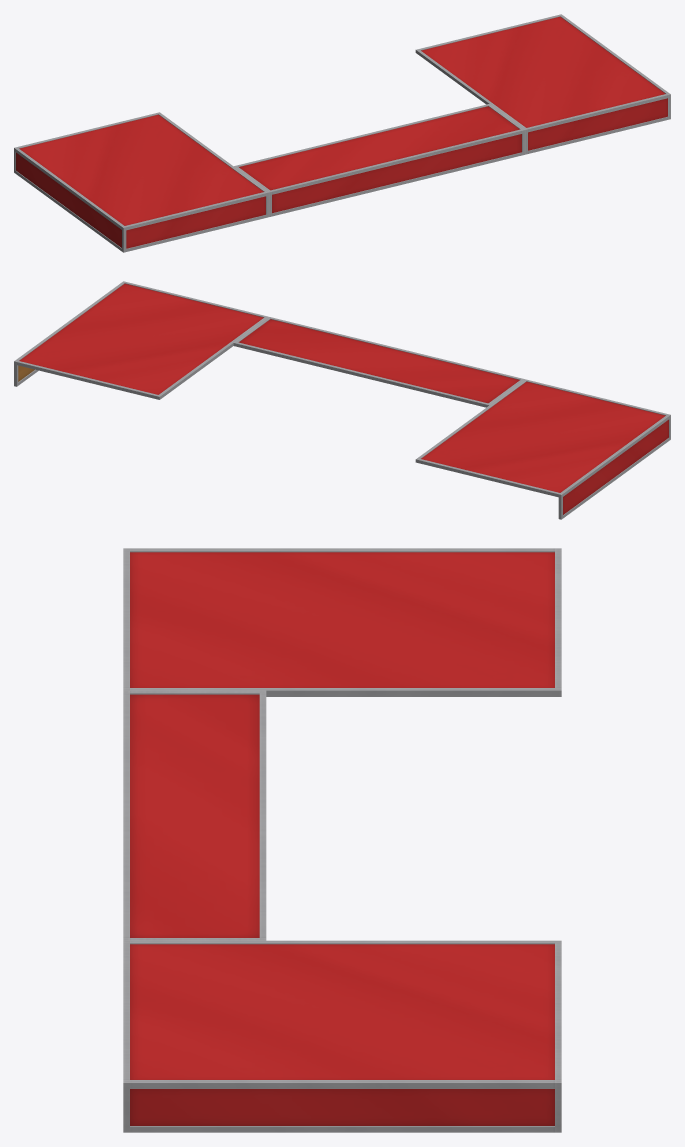
The model's file is jsf_2P_s03_c06_t03_DX.fbx.
The picture shows the model from 3 angles, top to bottom: view 1: azimuth 30°, elevation 25°; view 2: azimuth 150°, elevation 25°; view 3: azimuth 270°, elevation 25°; orthographic projection. The views are drawn at different scales.
Parts seen in each view (by area): view 1: jsf_2P_s03_c06_t03_DX; view 2: jsf_2P_s03_c06_t03_DX; view 3: jsf_2P_s03_c06_t03_DX.
Part boxes in pixels (box(x1,y1,x2,y2)): jsf_2P_s03_c06_t03_DX: box(14, 14, 670, 252); jsf_2P_s03_c06_t03_DX: box(14, 281, 670, 519); jsf_2P_s03_c06_t03_DX: box(123, 548, 561, 1132).
Size of the model in its own units: 289 by 12.51 by 100.
